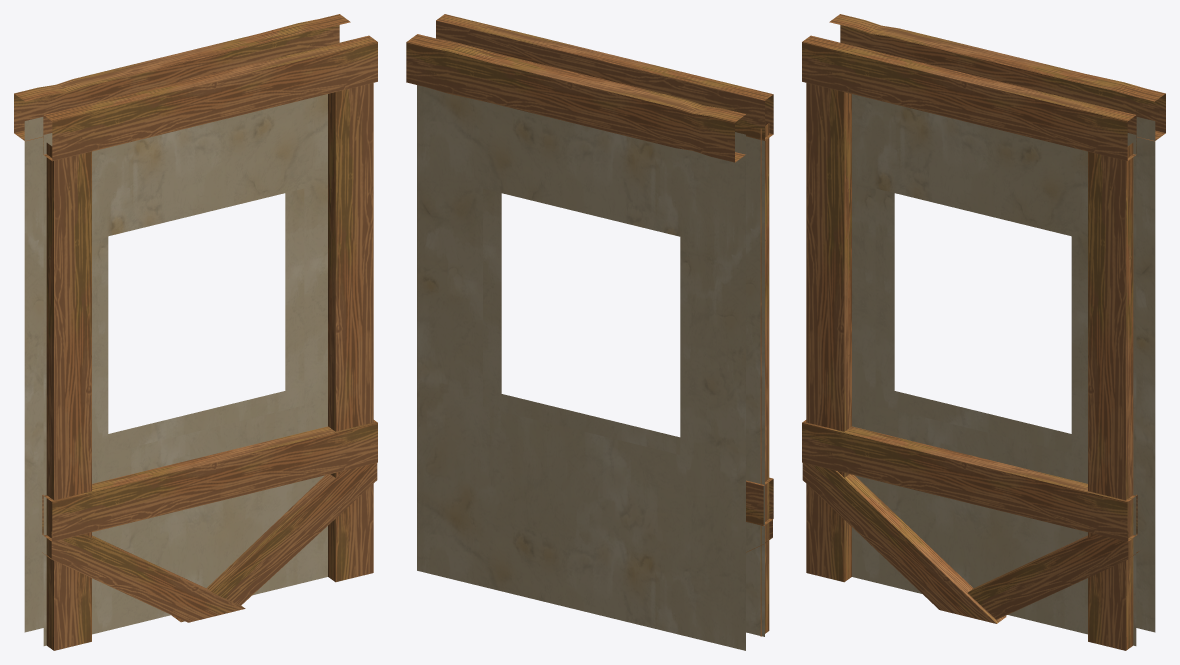
File: Wall_Plaster_Window_Wide_Flat2.gltf
3 views of the same model, side by side, from view 1: azimuth 30°, elevation 25°; view 2: azimuth 150°, elevation 25°; view 3: azimuth 330°, elevation 25° (orthographic).
Visible parts, largest first — view 1: Wall_Plaster_Window_Wide_Flat2; view 2: Wall_Plaster_Window_Wide_Flat2; view 3: Wall_Plaster_Window_Wide_Flat2.
Boxes of the visible parts, <box> form: Wall_Plaster_Window_Wide_Flat2: <box>14,14,377,650</box>; Wall_Plaster_Window_Wide_Flat2: <box>406,14,773,650</box>; Wall_Plaster_Window_Wide_Flat2: <box>802,14,1165,650</box>.
Size of the model in its own units: 2 by 3.15 by 0.4065.
Materials: 2 (2 with a texture image).
